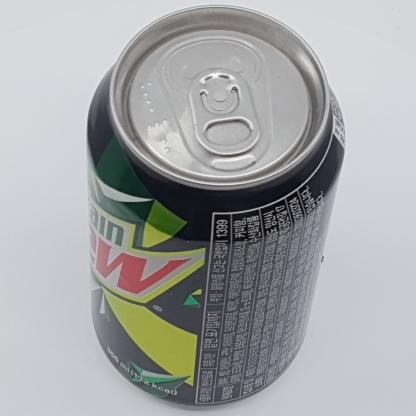------355ML: (86, 4, 346, 408)
